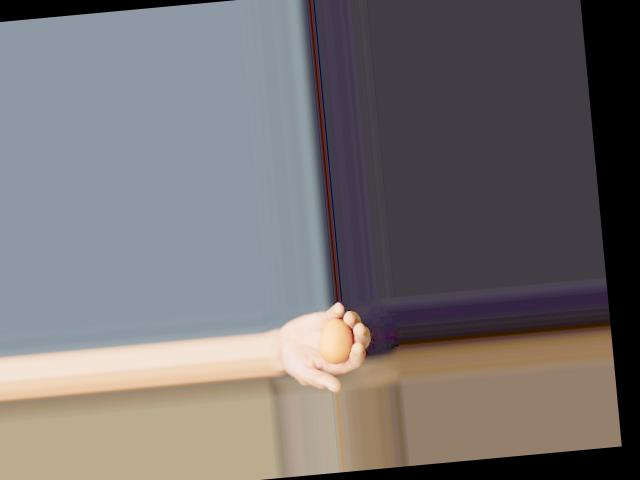egg: (317, 316, 353, 364)
